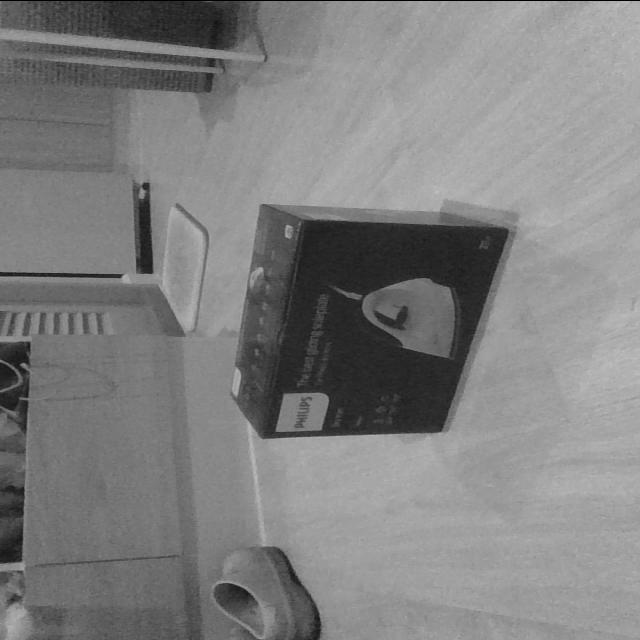IRON: (225, 201, 515, 441)
